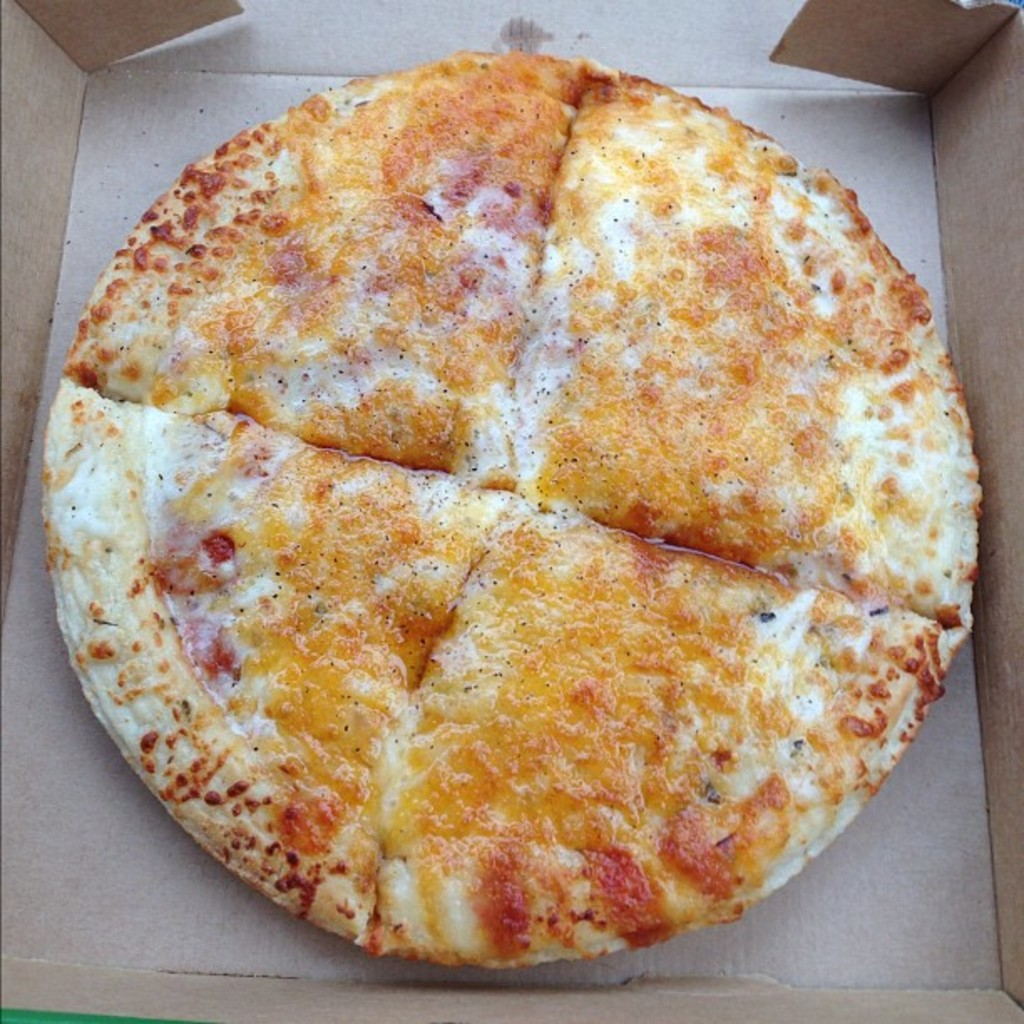Pizza: (30, 60, 1020, 978)
